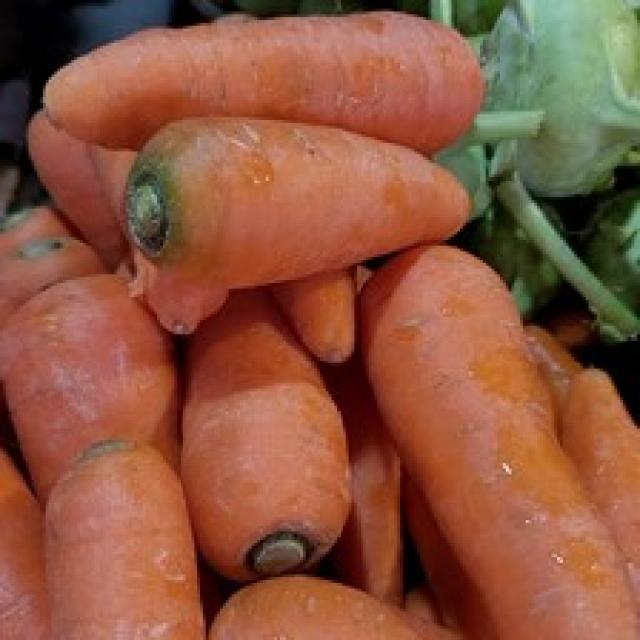Fresh_Carrot: (22, 43, 570, 616)
